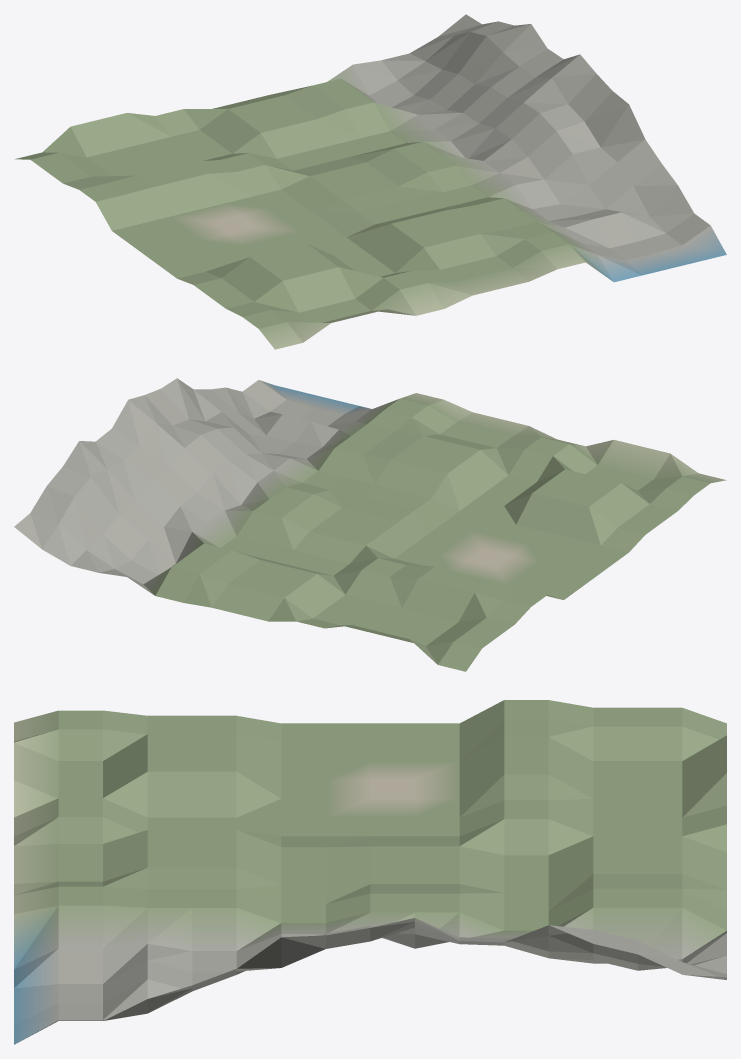
3 views of the same model, one above another, from view 1: azimuth 30°, elevation 25°; view 2: azimuth 150°, elevation 25°; view 3: azimuth 270°, elevation 25° (orthographic). The views are drawn at different scales.
Bounding box in the file's own units: 32 × 6.29 × 32.
